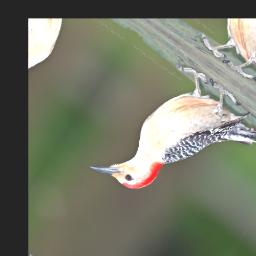Woodpecker: (85, 47, 256, 256)
